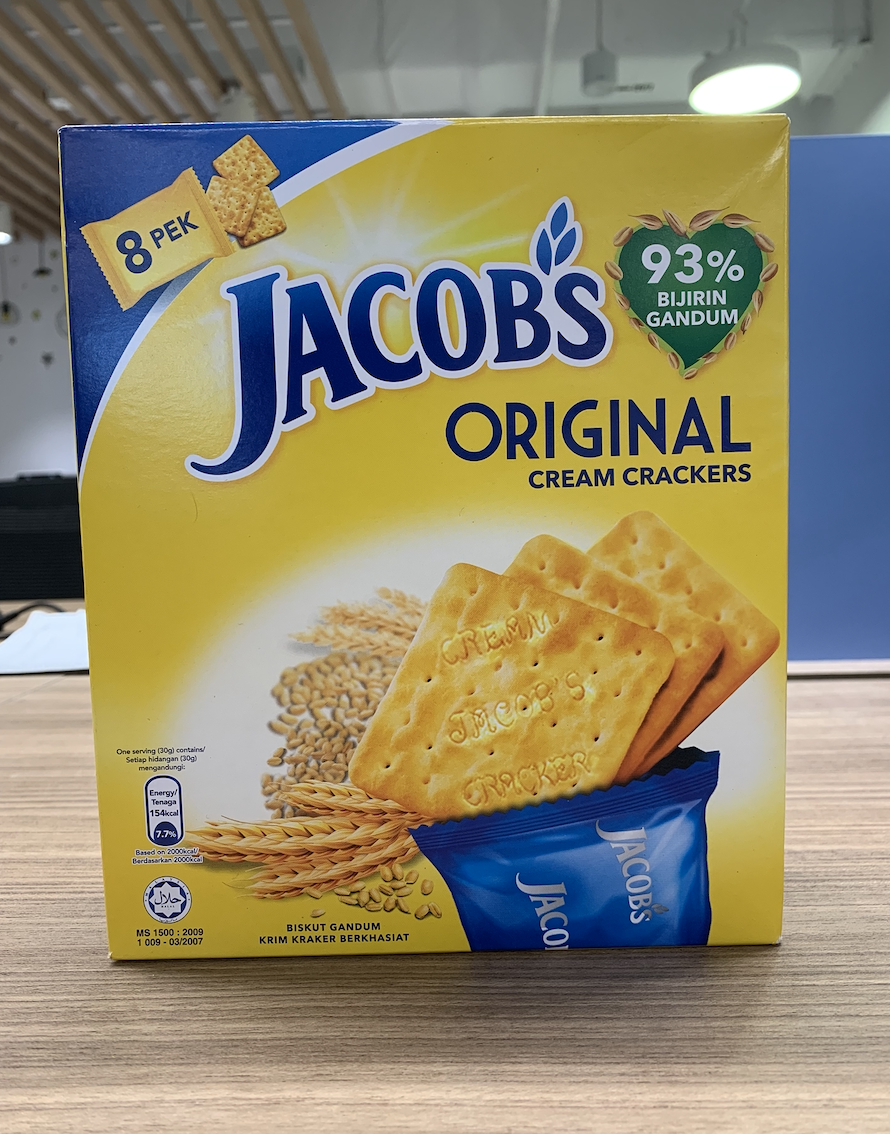crackers_150g: (111, 143, 770, 950)
